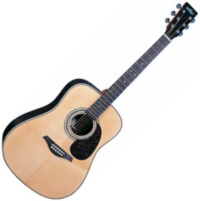guitar: (1, 1, 198, 200)
